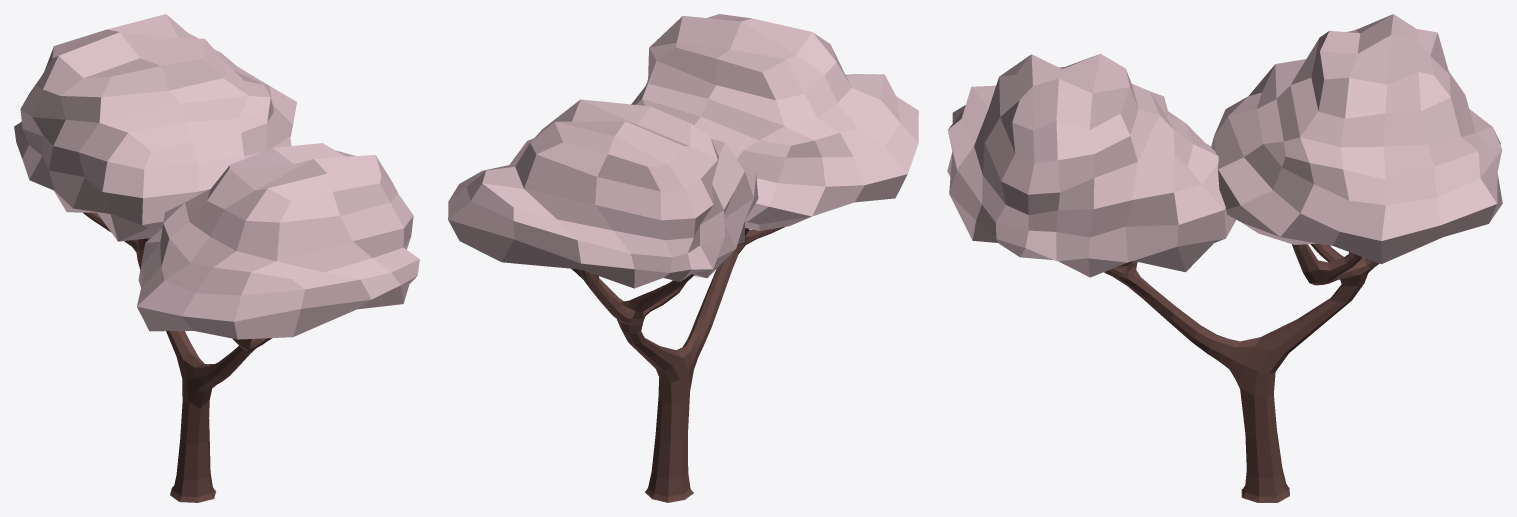
Rendered from blossom.glb.
3 views of the same model, side by side, from view 1: azimuth 30°, elevation 25°; view 2: azimuth 150°, elevation 25°; view 3: azimuth 270°, elevation 25° (orthographic). The views are drawn at different scales.
Visible parts, largest first — view 1: CommonTree_1; view 2: CommonTree_1; view 3: CommonTree_1.
Boxes of the visible parts, bbox=[...] form: CommonTree_1: bbox=[14, 14, 419, 502]; CommonTree_1: bbox=[448, 14, 918, 502]; CommonTree_1: bbox=[947, 14, 1502, 502].
Size of the model in its own units: 1.89 by 2.48 by 2.77.
